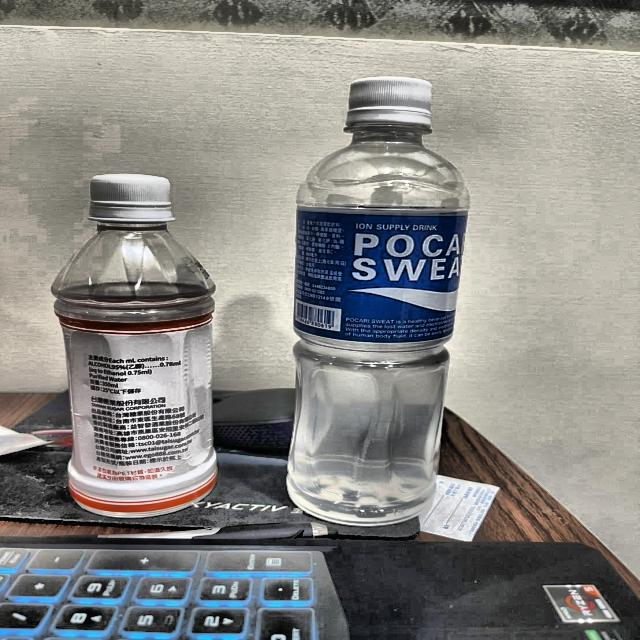Bottles: (278, 62, 483, 535), (39, 160, 228, 525)
